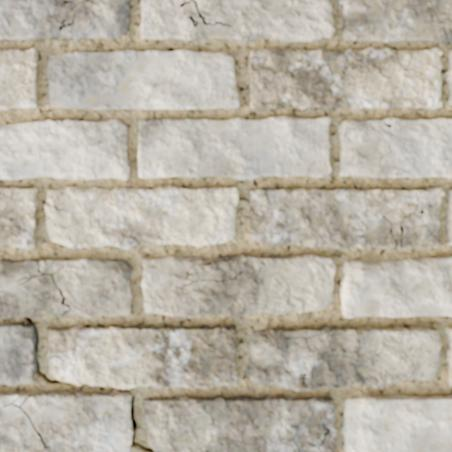brick: (248, 325, 440, 390), (142, 254, 334, 317), (138, 116, 330, 178), (46, 325, 237, 387), (249, 48, 442, 109), (250, 187, 443, 248), (45, 186, 237, 247), (48, 50, 238, 109), (144, 395, 335, 451), (141, 0, 333, 41), (0, 120, 128, 179), (16, 391, 131, 451), (338, 118, 451, 177), (341, 256, 451, 316), (343, 395, 451, 451), (40, 258, 131, 318), (0, 0, 129, 39), (338, 0, 451, 42), (0, 259, 66, 317), (0, 49, 37, 109), (0, 187, 37, 247), (0, 323, 35, 384), (0, 406, 42, 451), (446, 327, 451, 385), (446, 51, 451, 103), (447, 190, 451, 244), (0, 393, 15, 406)
crack: (16, 260, 74, 316), (23, 316, 69, 385), (0, 393, 50, 451), (117, 387, 162, 451), (381, 203, 428, 248), (178, 0, 233, 27), (283, 328, 333, 339), (317, 415, 330, 451), (306, 141, 317, 175), (286, 428, 301, 451), (47, 203, 69, 212), (379, 119, 393, 128), (326, 171, 332, 177)
